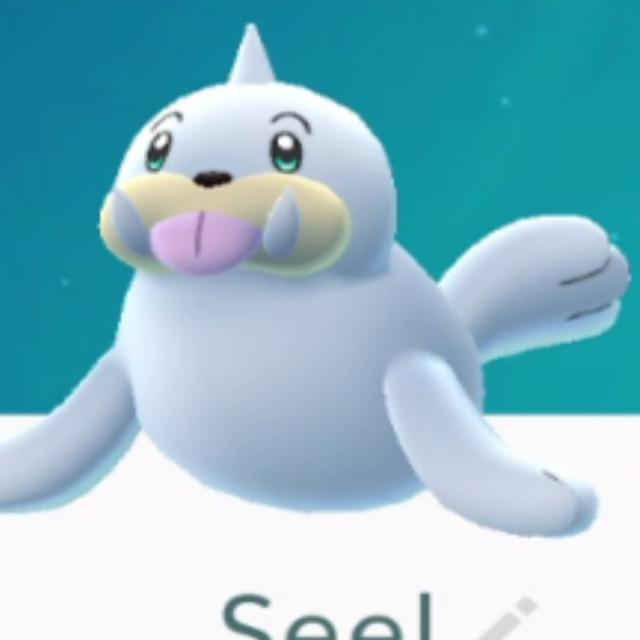Seel: (90, 21, 582, 536)
